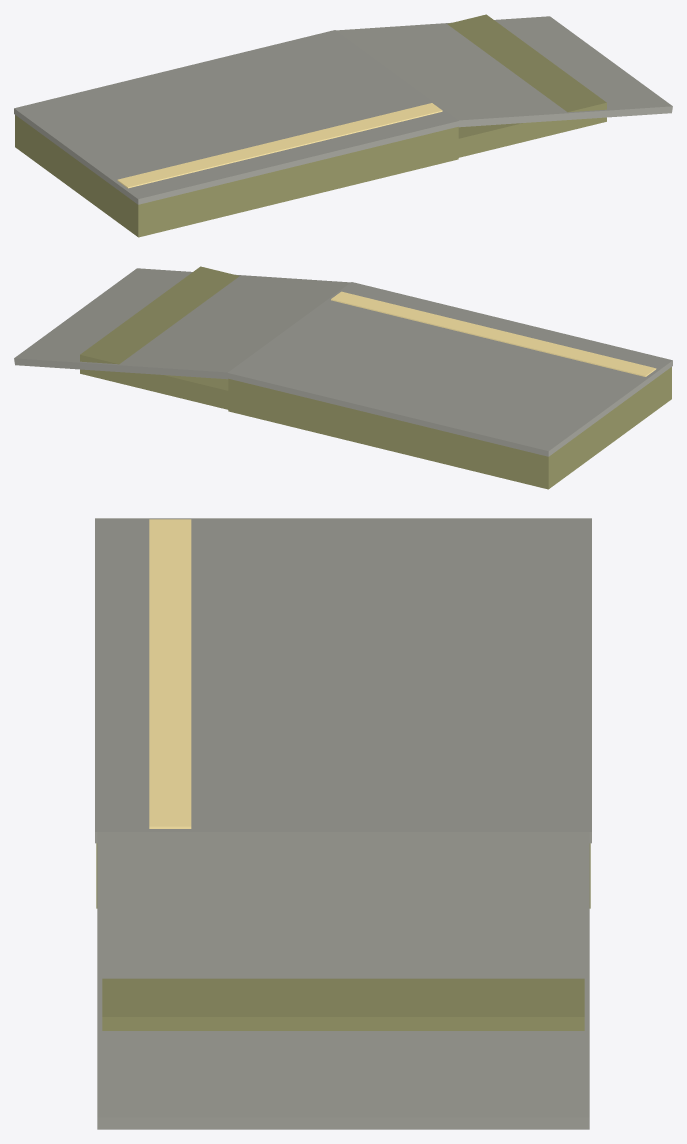
Rendered from SM_KitAnden_v3_LOD0.fbx.
The picture shows the model from 3 angles, top to bottom: view 1: azimuth 30°, elevation 25°; view 2: azimuth 150°, elevation 25°; view 3: azimuth 270°, elevation 25°; orthographic projection. The views are drawn at different scales.
Parts seen in each view (by area): view 1: SM_bloques.kit_anden_v3_LOD0; view 2: SM_bloques.kit_anden_v3_LOD0; view 3: SM_bloques.kit_anden_v3_LOD0.
Boxes of the visible parts, x1,y1,x2,y2 form: SM_bloques.kit_anden_v3_LOD0: [14, 14, 672, 237]; SM_bloques.kit_anden_v3_LOD0: [14, 266, 672, 489]; SM_bloques.kit_anden_v3_LOD0: [95, 518, 591, 1129].
Bounding box in the file's own units: 10 × 0.8192 × 4.02.
